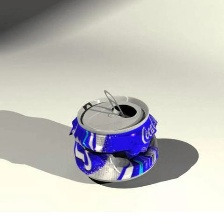can: (66, 88, 164, 188)
